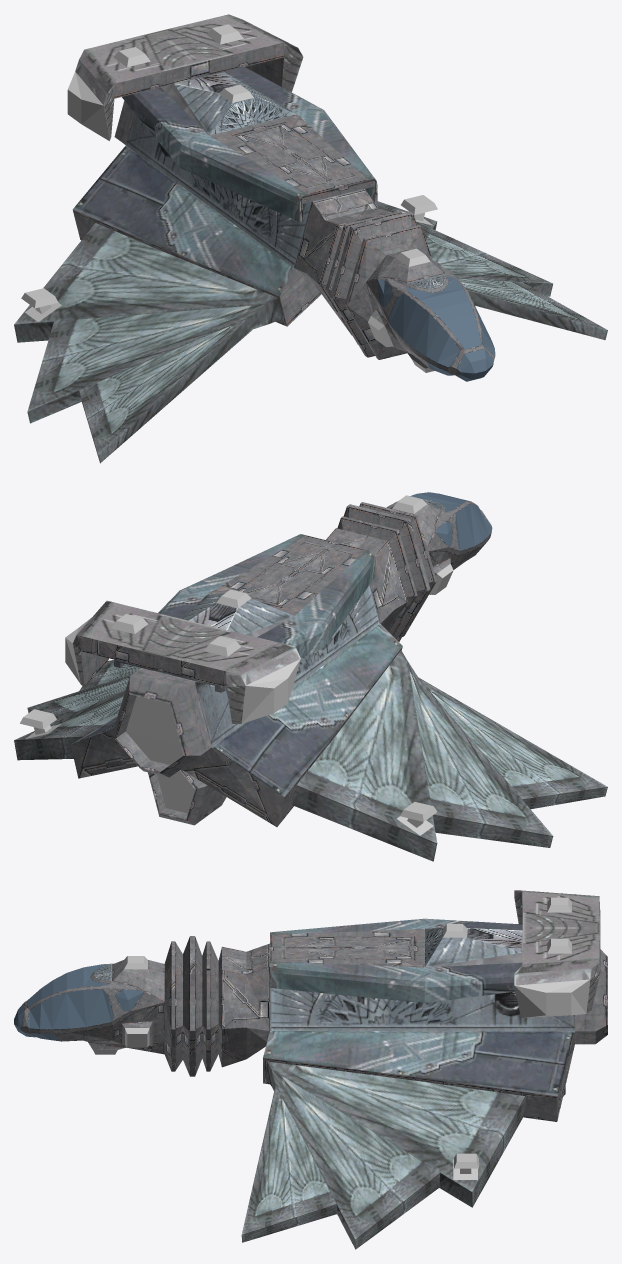
The model's file is mesh_defender.fbx.
3 renders of one model, top to bottom at view 1: azimuth 30°, elevation 25°; view 2: azimuth 150°, elevation 25°; view 3: azimuth 270°, elevation 25°, orthographic. The views are drawn at different scales.
Visible parts, largest first — view 1: Li_elite, Li_star_wing, Li_Spoiler, Li_port_wing, Li_glass, baydoor01, baydoor02; view 2: Li_elite, Li_star_wing, Li_Spoiler, Li_Engine01, Li_port_wing, Li_Engine02, Li_glass, baydoor02, baydoor01; view 3: Li_elite, Li_port_wing, Li_Spoiler, Li_glass, Li_Engine01, baydoor01, baydoor02.
Boxes of the visible parts, left/top/right/bottom form: Li_elite: left=72, top=67, right=495, bottom=376; Li_star_wing: left=14, top=223, right=284, bottom=463; Li_Spoiler: left=67, top=14, right=303, bottom=140; Li_port_wing: left=375, top=195, right=607, bottom=339; Li_glass: left=377, top=264, right=495, bottom=381; baydoor01: left=260, top=123, right=356, bottom=182; baydoor02: left=235, top=129, right=331, bottom=188; Li_elite: left=71, top=495, right=491, bottom=826; Li_star_wing: left=292, top=650, right=607, bottom=861; Li_Spoiler: left=65, top=600, right=300, bottom=723; Li_Engine01: left=112, top=668, right=211, bottom=777; Li_port_wing: left=14, top=659, right=140, bottom=760; Li_Engine02: left=148, top=769, right=226, bottom=825; Li_glass: left=410, top=492, right=492, bottom=550; baydoor02: left=257, top=547, right=354, bottom=606; baydoor01: left=237, top=541, right=329, bottom=600; Li_elite: left=20, top=918, right=575, bottom=1121; Li_port_wing: left=241, top=1061, right=525, bottom=1249; Li_Spoiler: left=514, top=890, right=600, bottom=1018; Li_glass: left=14, top=964, right=143, bottom=1041; Li_Engine01: left=575, top=949, right=607, bottom=1044; baydoor01: left=281, top=948, right=413, bottom=959; baydoor02: left=281, top=937, right=413, bottom=948.
Size of the model in its own units: 13.92 by 5.97 by 15.05.
